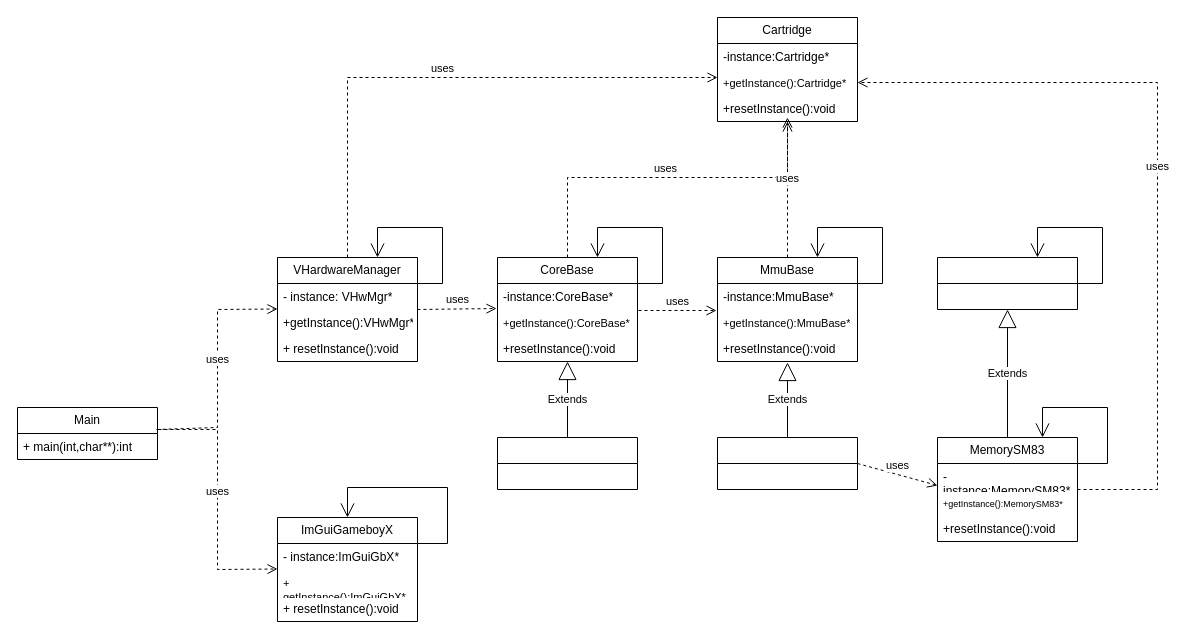
Some shapes in this 1186 by 642 pixel diagram are drawn without their labels. The shapes that lost their labels are listed below. From the top down, each one's box as (x1, y1, x2, y2) in pixels, then its label:
(936, 256, 1078, 310): MemoryBase
(496, 436, 638, 490): CoreSM83
(716, 436, 858, 490): MmuSM83
